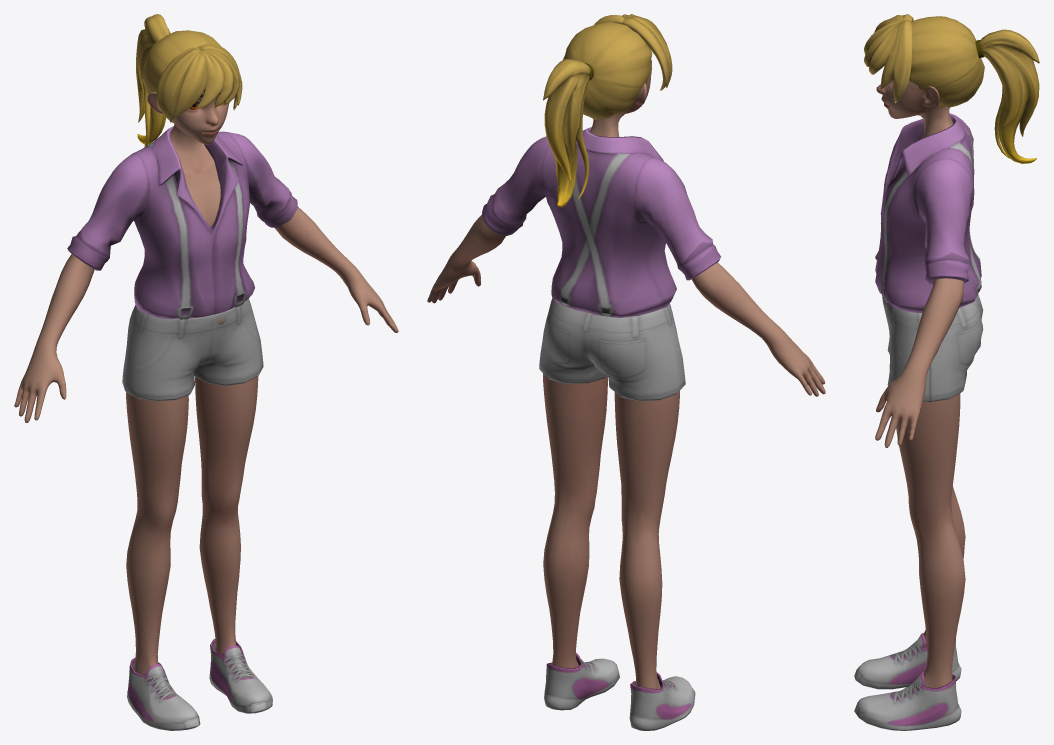
File: Country Girl_Mesh.obj
The picture shows the model from 3 angles, left to right: view 1: azimuth 30°, elevation 25°; view 2: azimuth 150°, elevation 25°; view 3: azimuth 270°, elevation 25°; orthographic projection. The views are drawn at different scales.
Visible parts, largest first — view 1: Country Girl_Mesh_0; view 2: Country Girl_Mesh_0; view 3: Country Girl_Mesh_0.
Boxes of the visible parts, <box> form: Country Girl_Mesh_0: <box>14,14,398,730</box>; Country Girl_Mesh_0: <box>427,14,825,730</box>; Country Girl_Mesh_0: <box>854,14,1039,730</box>.
Size of the model in its own units: 1.06 by 1.8 by 0.4416.
1 material, 1 textured.
